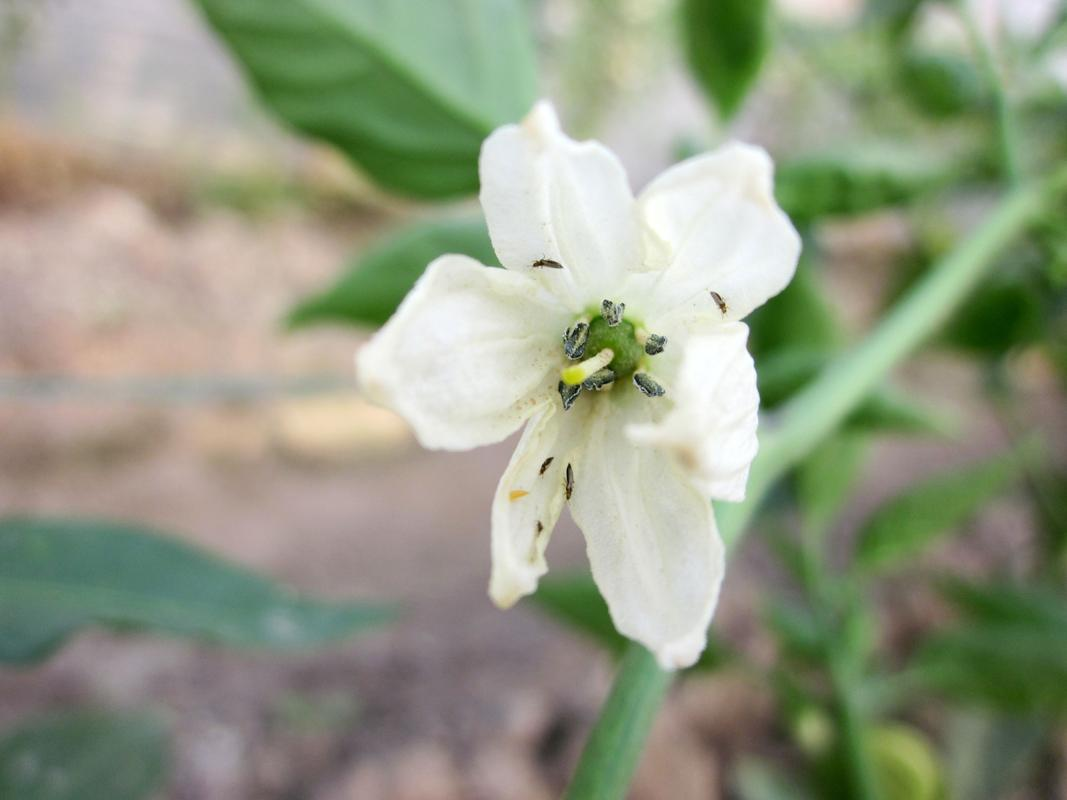Thripidae: (528, 254, 565, 276), (707, 291, 733, 319), (535, 455, 558, 480), (564, 459, 575, 503)
